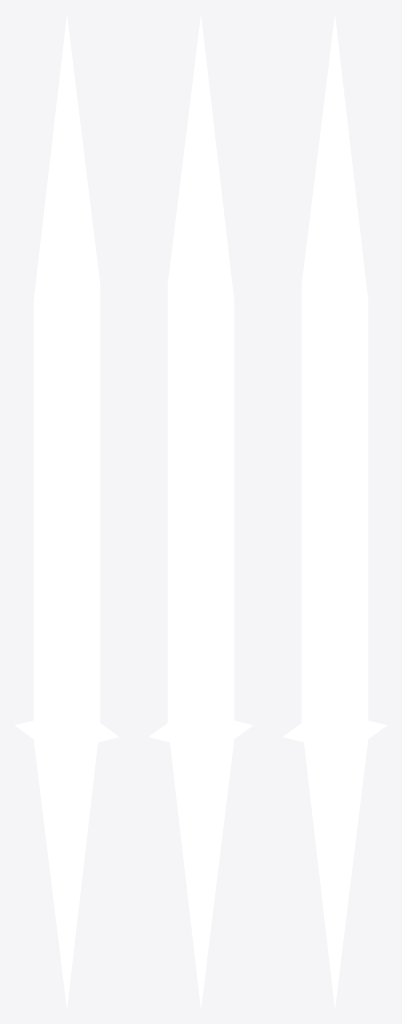
Rendered from laser0.glb.
3 renders of one model, left to right at view 1: azimuth 30°, elevation 25°; view 2: azimuth 150°, elevation 25°; view 3: azimuth 330°, elevation 25°, orthographic.
Parts seen in each view (by area): view 1: group_13; view 2: group_13; view 3: group_13.
Part boxes in pixels (x1,y1,x2,y2): group_13: (15,15,118,1008); group_13: (149,15,252,1008); group_13: (283,15,386,1008).
Size of the model in its own units: 160 by 2286 by 160.
1 material, 1 textured.
